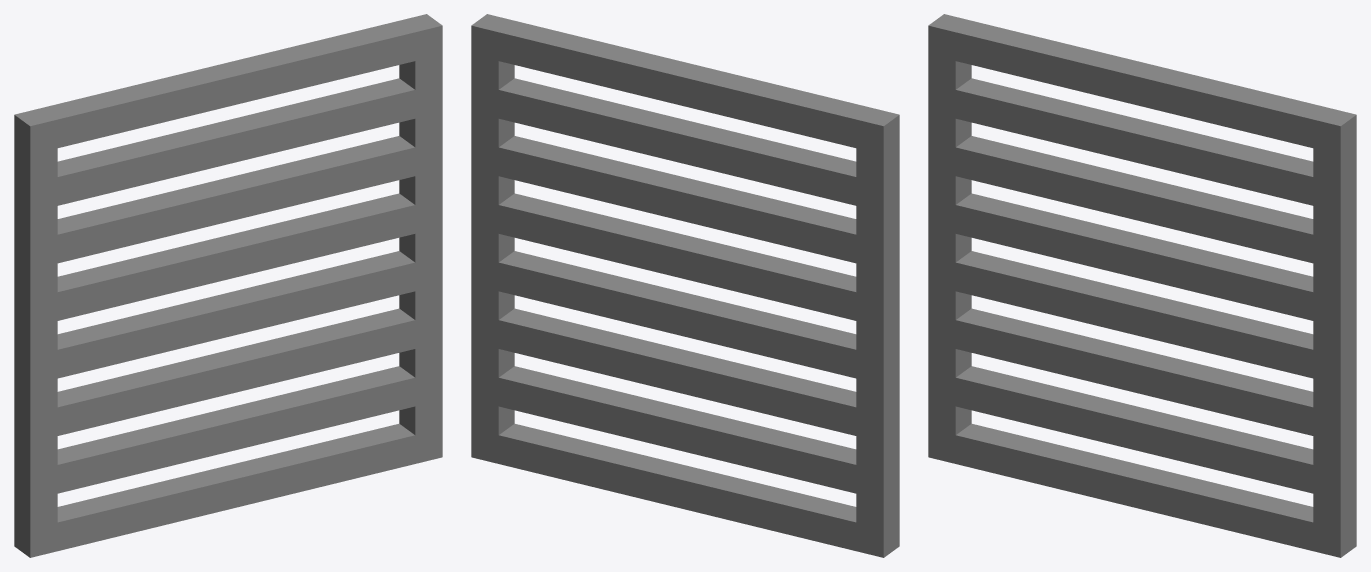
Rendered from trapdoor.obj.
The picture shows the model from 3 angles, left to right: view 1: azimuth 30°, elevation 25°; view 2: azimuth 150°, elevation 25°; view 3: azimuth 330°, elevation 25°; orthographic projection.
Size of the model in its own units: 1.5 by 1.5 by 0.1.
1 material, 1 textured.
